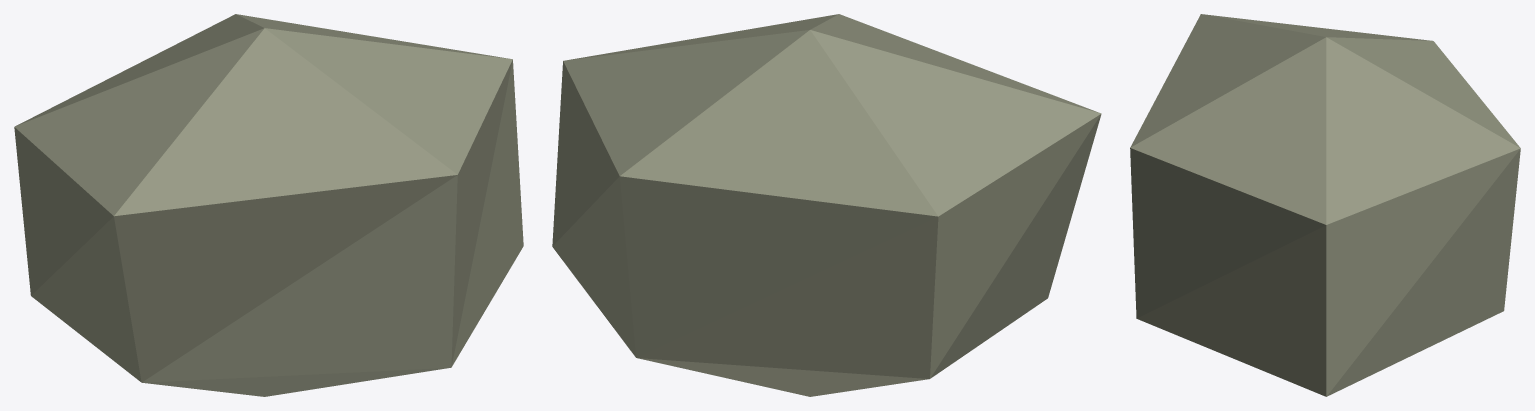
File: rock_field_lod2.obj
The picture shows the model from 3 angles, left to right: view 1: azimuth 30°, elevation 25°; view 2: azimuth 150°, elevation 25°; view 3: azimuth 270°, elevation 25°; orthographic projection. The views are drawn at different scales.
Parts seen in each view (by area): view 1: rock_field_lod2; view 2: rock_field_lod2; view 3: rock_field_lod2.
Part boxes in pixels (bbox=[...]): rock_field_lod2: bbox=[14, 14, 523, 396]; rock_field_lod2: bbox=[552, 14, 1101, 396]; rock_field_lod2: bbox=[1130, 14, 1520, 396].
Bounding box in the file's own units: 0.9276 × 0.68 × 0.7394.
Materials: 1 (1 with a texture image).
